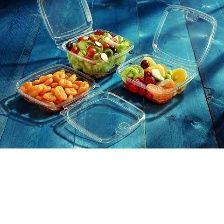plastic_box: (11, 58, 150, 147), (112, 0, 221, 108), (33, 0, 138, 82)
